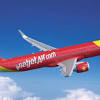maybay_dansu: (2, 27, 100, 76)
